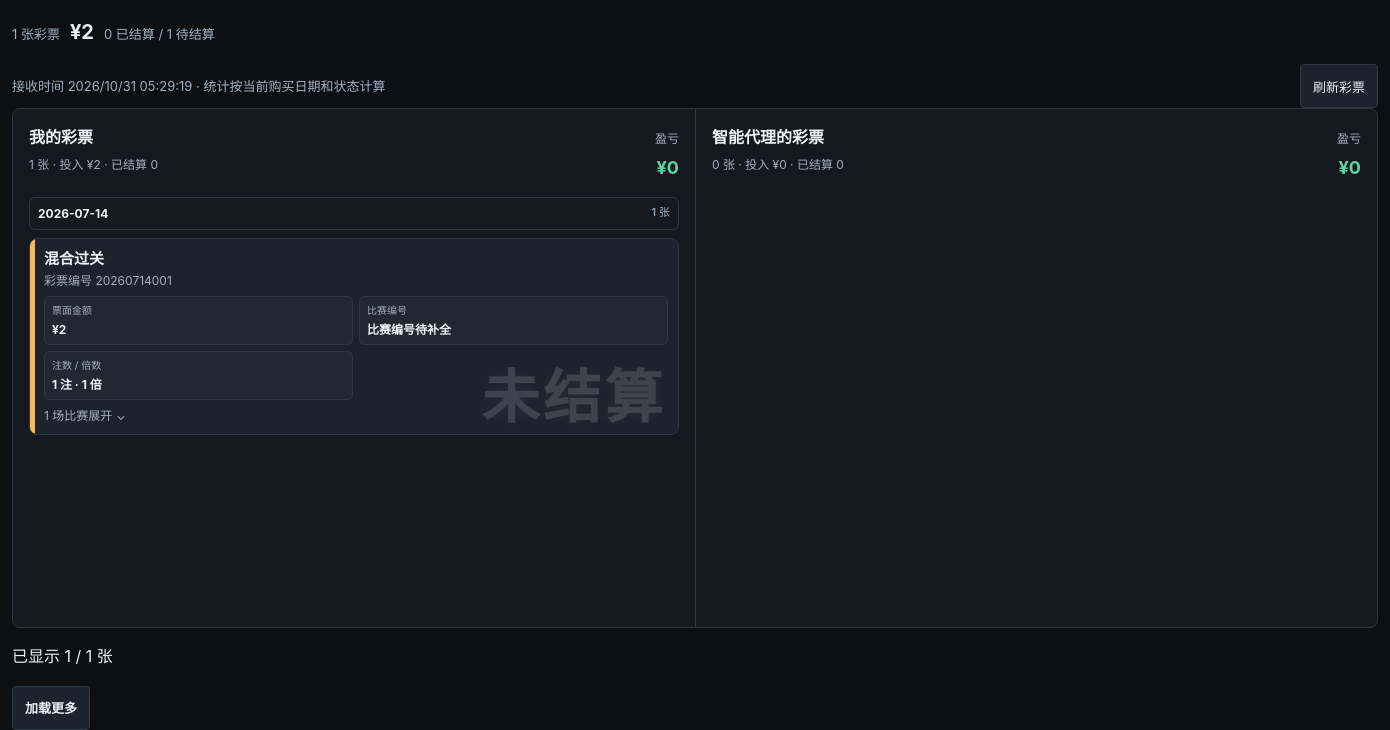
Test: TicketsPage query evidence › 分页游标没有前进时保留成功页并提示刷新
The image size is (1390, 730).
(page scrolled)
Click the button "加载更多".
click(51, 708)  # box 12,686 -> 90,729
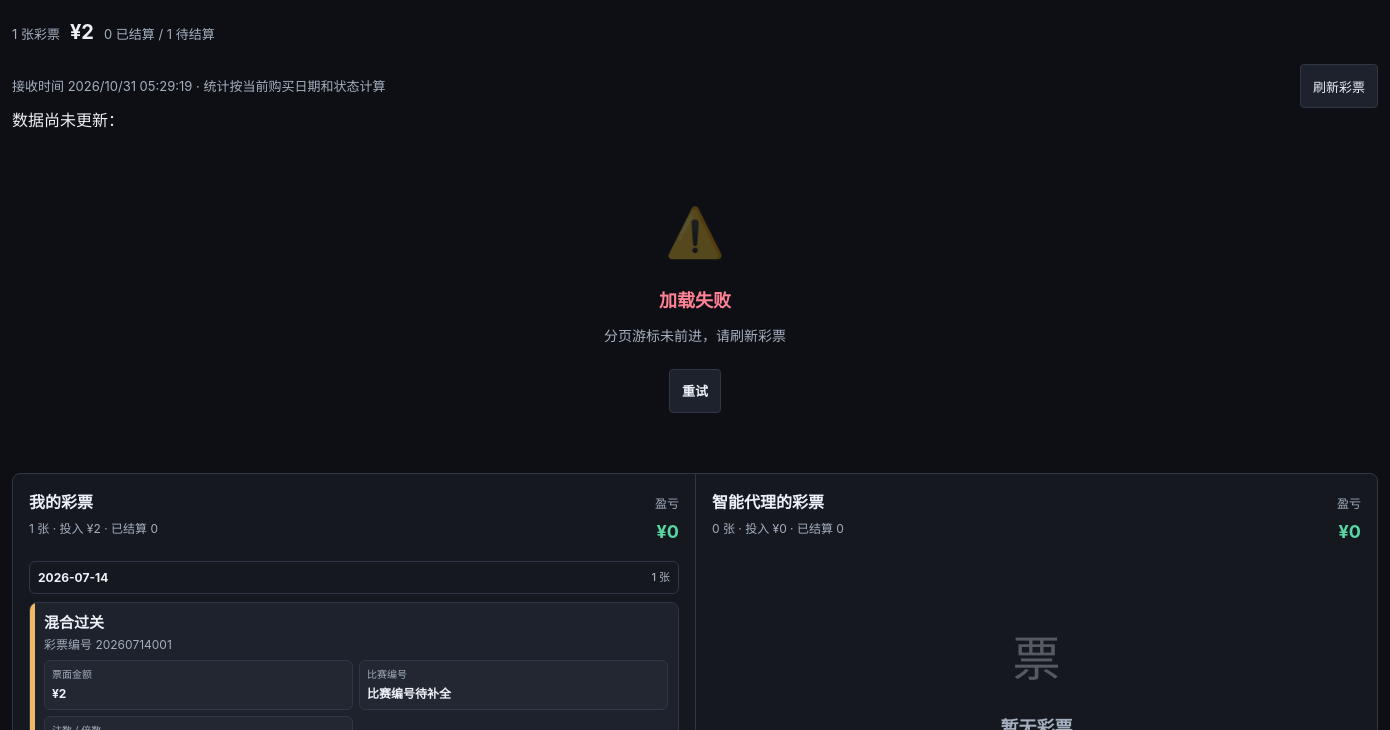
Check: the text "分页游标未前进，请刷新彩票" is shown, box 604,323 -> 786,349
